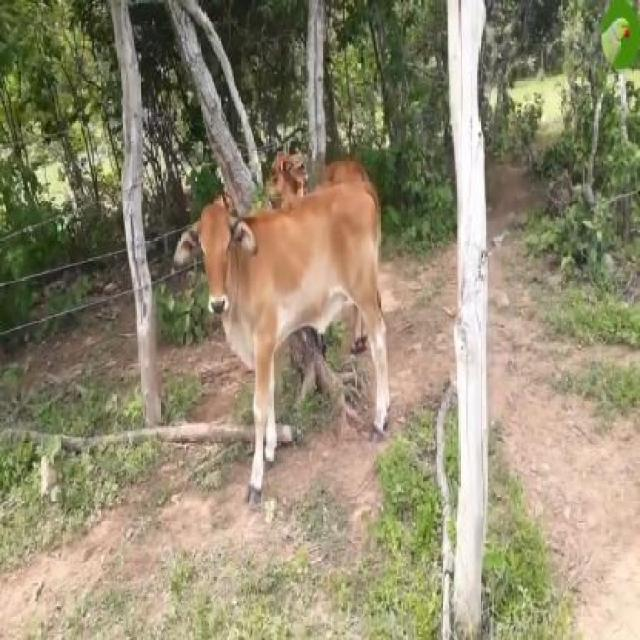Cow: (174, 185, 388, 512)
